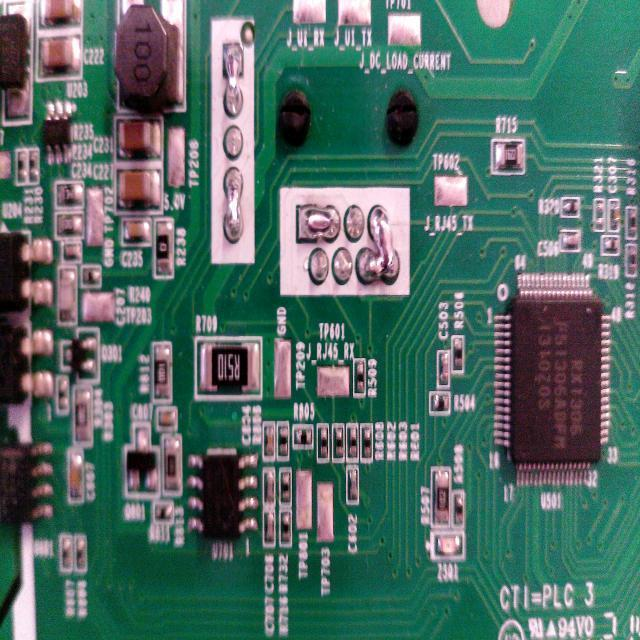Soldering shorted: (360, 207, 400, 290), (293, 200, 341, 248), (223, 42, 244, 120), (224, 165, 244, 246)
